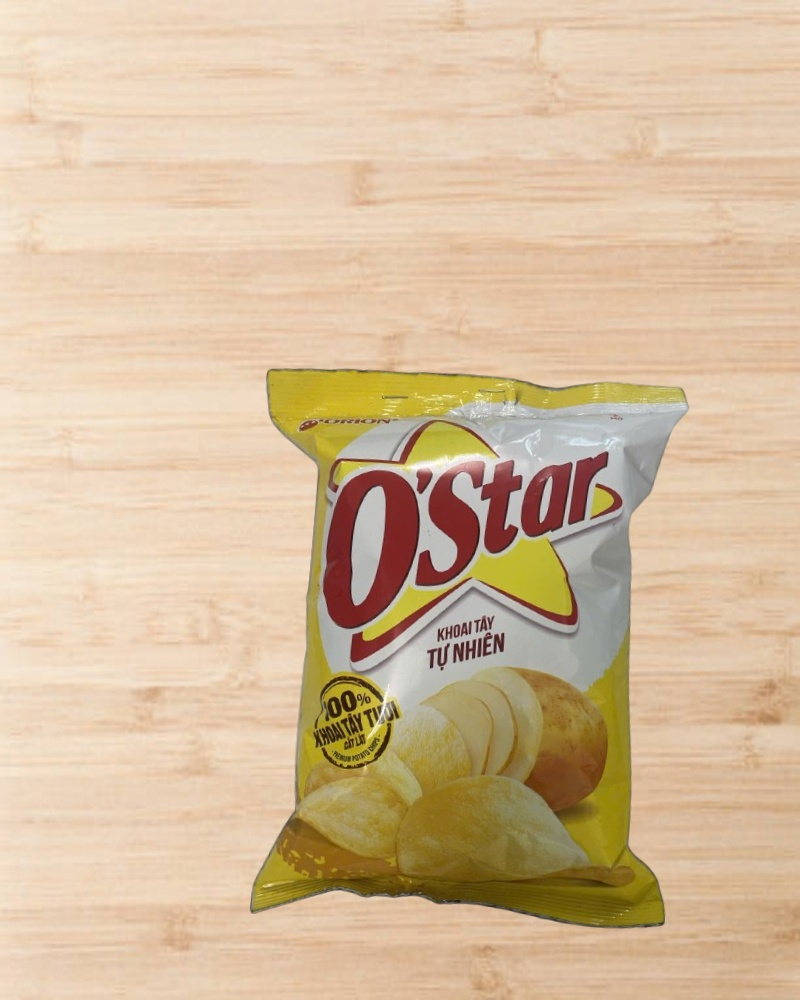O'star: (222, 352, 711, 949)
